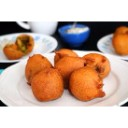bonda: (71, 67, 108, 102), (31, 71, 63, 99), (26, 53, 54, 83), (85, 48, 113, 77), (56, 55, 86, 75)
